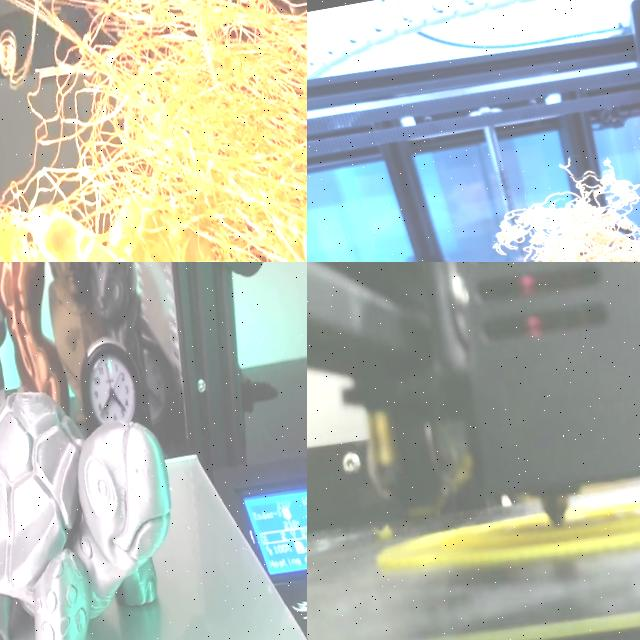spaghetti: (0, 0, 307, 262), (489, 145, 640, 262)
